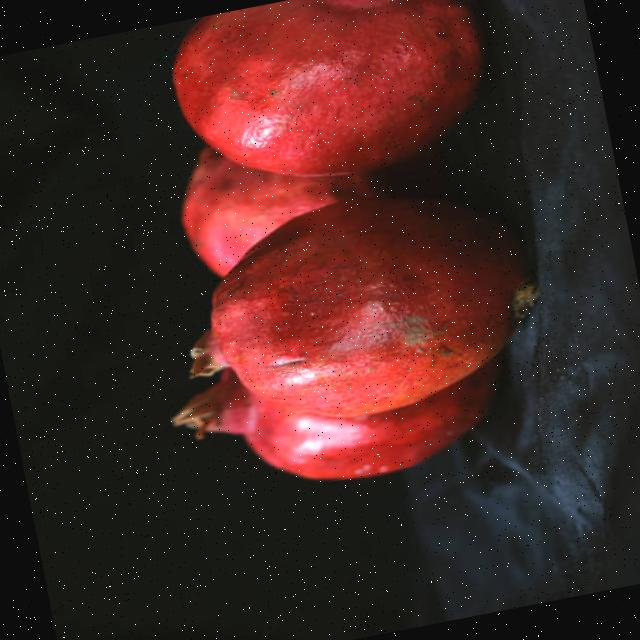overripe: (158, 164, 559, 451), (154, 0, 517, 210)
